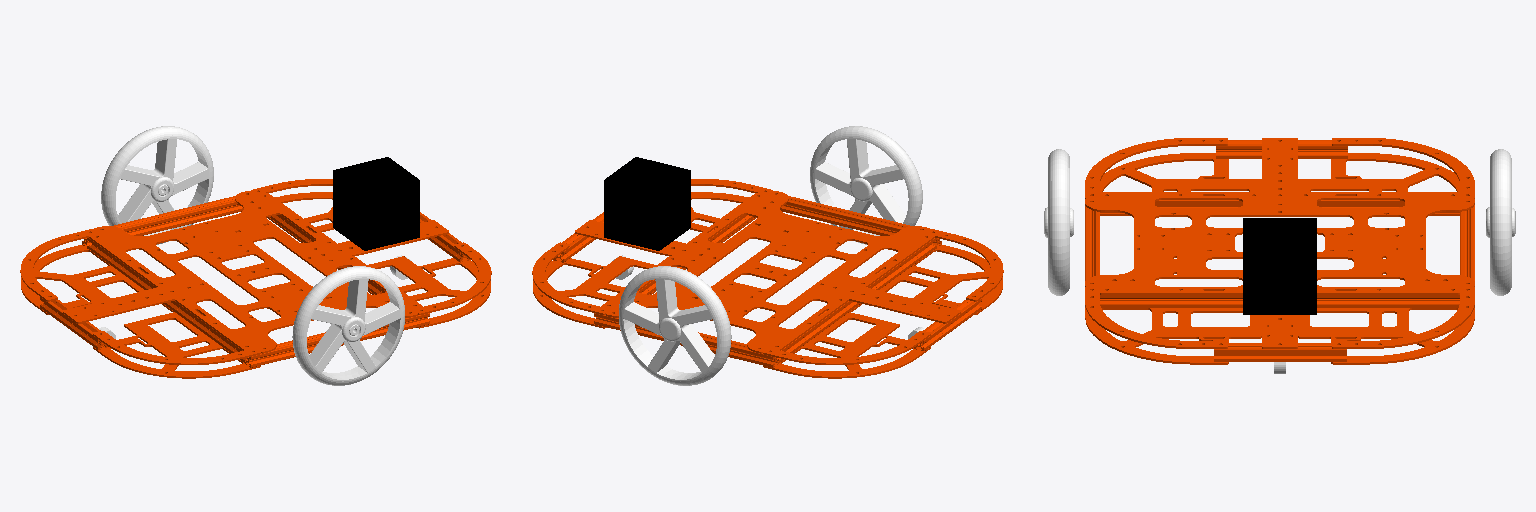
URDF robot description (cube_robot):
?<?xml version="1.0" encoding="utf-8"?>
<robot name="cube_robot">
  <material name="Powder Coat (Red)">
    <color rgba="0.9804 0.3412 0 1" />
  </material>
  <material name="No Name">
    <color rgba="1 1 1 1" />
  </material>
  <material name="Default-Material">
    <color rgba="1 1 1 1" />
  </material>
  <material name="black">
    <color rgba="0 0 0 1" />
  </material>
  <link name="base_footprint" />
  <link name="base_link">
    <inertial>
      <origin rpy="0 0 0" xyz="0.01 0 0" />
      <mass value="2" />
      <inertia ixx="0.0199950002133846" ixy="0" ixz="0" iyy="0.0199950002133846" iyz="0" izz="0.0367499999701977" />
    </inertial>
    <visual>
      <origin rpy="0 0 0" xyz="0 0 0.05949" />
      <geometry>
        <mesh filename="package://cube_robot_meshes_description/meshes/AGV-BODY.stl" scale="0.001 0.001 0.001" />
      </geometry>
      <material name="Powder Coat (Red)" />
    </visual>
    <collision>
      <origin rpy="0 4.712389 -1.570796" xyz="0 0 0.05949" />
      <geometry>
        <box size="1 1 1" />
      </geometry>
    </collision>
    <collision>
      <origin xyz="0 0 0.05" />
      <geometry>
        <box size="0.7 0.53 0.03" />
      </geometry>
    </collision>
  </link>
  <link name="wheel_left_link">
    <inertial>
      <origin rpy="0 0 0" xyz="0 0 0" />
      <mass value="0.0099999998" />
      <inertia ixx="0.00100000004749745" ixy="0" ixz="0" iyy="0.00100000004749745" iyz="0" izz="0.00100000004749745" />
    </inertial>
    <visual>
      <origin rpy="0 1.57 0" xyz="0 0 0.015" />
      <geometry>
        <mesh filename="package://cube_robot_meshes_description/meshes/AGV-WHEEL.stl" scale="1 1 1" />
      </geometry>
      <material name="No Name" />
    </visual>
    <collision>
      <geometry>
        <cylinder length="0.03" radius="0.1" />
      </geometry>
    </collision>
  </link>
  <link name="wheel_right_link">
    <inertial>
      <origin rpy="0 0 0" xyz="0 0 0" />
      <mass value="0.0099999998" />
      <inertia ixx="0.00100000004749745" ixy="0" ixz="0" iyy="0.00100000004749745" iyz="0" izz="0.00100000004749745" />
    </inertial>
    <visual>
      <origin rpy="0 1.57 0" xyz="0 0 0.015" />
      <geometry>
        <mesh filename="package://cube_robot_meshes_description/meshes/AGV-WHEEL.stl" scale="1 1 1" />
      </geometry>
      <material name="No Name" />
    </visual>
    <collision>
      <geometry>
        <cylinder length="0.03" radius="0.1" />
      </geometry>
    </collision>
  </link>
  <link name="caster_front_link">
    <inertial>
      <origin rpy="0 0 0" xyz="0 0 0" />
      <mass value="0.0099999998" />
      <inertia ixx="0.00100000004749745" ixy="0" ixz="0" iyy="0.00100000004749745" iyz="0" izz="0.00100000004749745" />
    </inertial>
    <visual>
      <geometry>
        <cylinder length="0.0176" radius="0.017" />
      </geometry>
      <material name="Default-Material" />
    </visual>
    <collision>
      <geometry>
        <cylinder length="0.0176" radius="0.017" />
      </geometry>
    </collision>
  </link>
  <link name="caster_back_link">
    <inertial>
      <origin rpy="0 0 0" xyz="0 0 0" />
      <mass value="0.0099999998" />
      <inertia ixx="0.00100000004749745" ixy="0" ixz="0" iyy="0.00100000004749745" iyz="0" izz="0.00100000004749745" />
    </inertial>
    <visual>
      <geometry>
        <cylinder length="0.0176" radius="0.017" />
      </geometry>
      <material name="Default-Material" />
    </visual>
    <collision>
      <geometry>
        <cylinder length="0.0176" radius="0.017" />
      </geometry>
    </collision>
  </link>
  <link name="hat">
    <inertial>
      <origin rpy="0 0 0" xyz="0 0 0" />
      <mass value="0.001" />
      <inertia ixx="1" ixy="0" ixz="0" iyy="1" iyz="0" izz="1" />
    </inertial>
    <visual>
      <origin xyz="0 0 -0.012" />
      <geometry>
        <box size="0.1 0.1 0.1" />
      </geometry>
      <material name="black" />
    </visual>
  </link>
  <link name="lidar">
    <inertial>
      <origin rpy="0 0 0" xyz="0 0 0" />
      <mass value="1" />
      <inertia ixx="1" ixy="0" ixz="0" iyy="1" iyz="0" izz="1" />
    </inertial>
  </link>
  <joint name="base_footprint_base_link_joint" type="fixed">
    <origin xyz="0 0 0.0102" />
    <parent link="base_footprint" />
    <child link="base_link" />
  </joint>
  <joint name="base_link_wheel_left_link_joint" type="continuous">
    <origin rpy="-1.570796 0 0" xyz="0 0.3 0.09" />
    <parent link="base_link" />
    <child link="wheel_left_link" />
    <axis xyz="0 0 1" />
  </joint>
  <joint name="base_link_wheel_right_link_joint" type="continuous">
    <origin rpy="-1.570796 0 0" xyz="0 -0.3 0.09" />
    <parent link="base_link" />
    <child link="wheel_right_link" />
    <axis xyz="0 0 1" />
  </joint>
  <joint name="base_link_caster_front_link_joint" type="fixed">
    <origin rpy="-1.570796 0 0" xyz="0.27 0 0.007" />
    <parent link="base_link" />
    <child link="caster_front_link" />
  </joint>
  <joint name="base_link_caster_back_link_joint" type="fixed">
    <origin rpy="-1.570796 0 0" xyz="-0.27 0 0.009" />
    <parent link="base_link" />
    <child link="caster_back_link" />
  </joint>
  <joint name="base_link_hat_joint" type="fixed">
    <origin xyz="0.223 0 0.14" />
    <parent link="base_link" />
    <child link="hat" />
  </joint>
  <joint name="base_link_lidar_joint" type="fixed">
    <origin xyz="0.217 0 0.225" />
    <parent link="base_link" />
    <child link="lidar" />
  </joint>
  <gazebo reference="wheel_left_link">
  <mu1>1.0</mu1>
  <mu2>1.0</mu2>
  <kp>1000000.0</kp>
  <kd>100.0</kd>
  <minDepth>0.001</minDepth>
  <maxVel>1.0</maxVel>
</gazebo>
<gazebo reference="wheel_right_link">
  <mu1>1.0</mu1>
  <mu2>1.0</mu2>
  <kp>1000000.0</kp>
  <kd>100.0</kd>
  <minDepth>0.001</minDepth>
  <maxVel>1.0</maxVel>
</gazebo>
<gazebo reference="caster_front_link">
  <mu1>0.0</mu1>
  <mu2>0.0</mu2>
  <kp>1000000.0</kp>
  <kd>100.0</kd>
  <minDepth>0.001</minDepth>
  <maxVel>1.0</maxVel>
</gazebo>
<gazebo reference="caster_back_link">
  <mu1>0.0</mu1>
  <mu2>0.0</mu2>
  <kp>1000000.0</kp>
  <kd>100.0</kd>
  <minDepth>0.001</minDepth>
  <maxVel>1.0</maxVel>
</gazebo>
<gazebo reference="base_link">
  <mu1>0.3</mu1>
  <mu2>0.3</mu2>
  <sensor name="bumpers" type="contact">
    <always_on>1</always_on>
    <update_rate>50.0</update_rate>
    <visualize>true</visualize>
    <contact>
      <collision>base_footprint_fixed_joint_lump__base_collision</collision>
    </contact>
  </sensor>
</gazebo>
<gazebo reference="cliff_sensor_left_link">
  <sensor name="cliff_sensor_left" type="ray">
    <always_on>true</always_on>
    <update_rate>50</update_rate>
    <visualize>true</visualize>
    <ray>
      <scan>
        <horizontal>
          <samples>50</samples>
          <resolution>1.0</resolution>
          <min_angle>-0.0436</min_angle>
          <!-- -2.5 degree -->
          <max_angle>0.0436</max_angle>
          <!-- 2.5 degree -->
        </horizontal>
        <!--            Can't use vertical rays until this bug is resolved: -->
        <!--            https://bitbucket.org/osrf/gazebo/issue/509/vertical-sensor-doesnt-works -->
        <!-- \t          <vertical> -->
        <!-- \t            <samples>50</samples> -->
        <!-- \t            <resolution>1.0</resolution> -->
        <!-- \t            <min_angle>-0.0436</min_angle>  -2.5 degree -->
        <!-- \t            <max_angle>0.0436</max_angle> 2.5 degree -->
        <!-- \t          </vertical> -->
      </scan>
      <range>
        <min>0.01</min>
        <max>0.15</max>
        <resolution>1.0</resolution>
      </range>
    </ray>
  </sensor>
</gazebo>
<gazebo reference="cliff_sensor_right_link">
  <sensor name="cliff_sensor_right" type="ray">
    <always_on>true</always_on>
    <update_rate>50</update_rate>
    <visualize>true</visualize>
    <ray>
      <scan>
        <horizontal>
          <samples>50</samples>
          <resolution>1.0</resolution>
          <min_angle>-0.0436</min_angle>
          <!-- -2.5 degree -->
          <max_angle>0.0436</max_angle>
          <!-- 2.5 degree -->
        </horizontal>
        <!--            Can't use vertical rays until this bug is resolved: -->
        <!--            https://bitbucket.org/osrf/gazebo/issue/509/vertical-sensor-doesnt-works -->
        <!-- \t          <vertical> -->
        <!-- \t            <samples>50</samples> -->
        <!-- \t            <resolution>1.0</resolution> -->
        <!-- \t            <min_angle>-0.0436</min_angle>  -2.5 degree -->
        <!-- \t            <max_angle>0.0436</max_angle> 2.5 degree -->
        <!-- \t          </vertical> -->
      </scan>
      <range>
        <min>0.01</min>
        <max>0.15</max>
        <resolution>1.0</resolution>
      </range>
    </ray>
  </sensor>
</gazebo>
<gazebo reference="cliff_sensor_front_link">
  <sensor name="cliff_sensor_front" type="ray">
    <always_on>true</always_on>
    <update_rate>50</update_rate>
    <visualize>true</visualize>
    <ray>
      <scan>
        <horizontal>
          <samples>50</samples>
          <resolution>1.0</resolution>
          <min_angle>-0.0436</min_angle>
          <!-- -2.5 degree -->
          <max_angle>0.0436</max_angle>
          <!-- 2.5 degree -->
        </horizontal>
        <!-- \t          Can't use vertical rays until this bug is resolved: -->
        <!--            https://bitbucket.org/osrf/gazebo/issue/509/vertical-sensor-doesnt-works -->
        <!-- \t          <vertical> -->
        <!-- \t            <samples>50</samples> -->
        <!-- \t            <resolution>1.0</resolution> -->
        <!-- \t            <min_angle>-0.0436</min_angle>  -2.5 degree -->
        <!-- \t            <max_angle>0.0436</max_angle> 2.5 degree -->
        <!-- \t          </vertical> -->
      </scan>
      <range>
        <min>0.01</min>
        <max>0.15</max>
        <resolution>1.0</resolution>
      </range>
    </ray>
  </sensor>
</gazebo>
<gazebo reference="gyro_link">
  <sensor name="imu" type="imu">
    <always_on>true</always_on>
    <update_rate>50</update_rate>
    <visualize>false</visualize>
    <imu>
      <noise>
        <type>gaussian</type>
        <rate>
          <mean>0.0</mean>
          <stddev>1.96e-06</stddev>
          <!-- 0.25 x 0.25 (deg/s) -->
          <bias_mean>0.0</bias_mean>
          <bias_stddev>0.0</bias_stddev>
        </rate>
        <accel>
          <!-- not used in the plugin and real robot, hence using tutorial values -->
          <mean>0.0</mean>
          <stddev>1.7e-2</stddev>
          <bias_mean>0.1</bias_mean>
          <bias_stddev>0.001</bias_stddev>
        </accel>
      </noise>
    </imu>
  </sensor>
</gazebo>
<gazebo>
  <plugin filename="libgazebo_ros_kobuki.so" name="kobuki_controller">
    <publish_tf>1</publish_tf>
    <left_wheel_joint_name>wheel_left_joint</left_wheel_joint_name>
    <right_wheel_joint_name>wheel_right_joint</right_wheel_joint_name>
    <wheel_separation>.230</wheel_separation>
    <wheel_diameter>0.070</wheel_diameter>
    <torque>1.0</torque>
    <velocity_command_timeout>0.6</velocity_command_timeout>
    <cliff_sensor_left_name>cliff_sensor_left</cliff_sensor_left_name>
    <cliff_sensor_center_name>cliff_sensor_front</cliff_sensor_center_name>
    <cliff_sensor_right_name>cliff_sensor_right</cliff_sensor_right_name>
    <cliff_detection_threshold>0.04</cliff_detection_threshold>
    <bumper_name>bumpers</bumper_name>
    <imu_name>imu</imu_name>
  </plugin>
</gazebo>
<gazebo reference="camera_link">
  <sensor name="camera" type="depth">
    <always_on>true</always_on>
    <update_rate>20.0</update_rate>
    <camera>
      <horizontal_fov>1.0471975512</horizontal_fov>
      <image>
        <format>B8G8R8</format>
        <width>640</width>
        <height>480</height>
      </image>
      <clip>
        <near>0.05</near>
        <far>8.0</far>
      </clip>
    </camera>
    <plugin filename="libgazebo_ros_openni_kinect.so" name="kinect_camera_controller">
      <cameraName>camera</cameraName>
      <alwaysOn>true</alwaysOn>
      <updateRate>10</updateRate>
      <imageTopicName>rgb/image_raw</imageTopicName>
      <depthImageTopicName>depth/image_raw</depthImageTopicName>
      <pointCloudTopicName>depth/points</pointCloudTopicName>
      <cameraInfoTopicName>rgb/camera_info</cameraInfoTopicName>
      <depthImageCameraInfoTopicName>depth/camera_info</depthImageCameraInfoTopicName>
      <frameName>camera_depth_optical_frame</frameName>
      <baseline>0.1</baseline>
      <distortion_k1>0.0</distortion_k1>
      <distortion_k2>0.0</distortion_k2>
      <distortion_k3>0.0</distortion_k3>
      <distortion_t1>0.0</distortion_t1>
      <distortion_t2>0.0</distortion_t2>
      <pointCloudCutoff>0.4</pointCloudCutoff>
    </plugin>
  </sensor>
</gazebo>
</robot>

--- What the picture shows (computed from the rendered views, not written in the file) ---
3 views of the same robot in one strip: view 1: azimuth 30°, elevation 25°; view 2: azimuth 150°, elevation 25°; view 3: azimuth 270°, elevation 25° (orthographic).
Model cube_robot with 8 links and 7 joints (2 continuous, 5 fixed), rooted at base_footprint, posed all joints at 0.
Links seen in each view (by area): view 1: base_link, wheel_right_link, hat, wheel_left_link; view 2: base_link, wheel_left_link, hat, wheel_right_link; view 3: base_link, hat, wheel_left_link, wheel_right_link.
Link boxes in pixels (bbox=[...]): base_link: bbox=[20, 179, 491, 378]; wheel_right_link: bbox=[292, 266, 404, 385]; hat: bbox=[333, 157, 419, 250]; wheel_left_link: bbox=[101, 126, 213, 244]; base_link: bbox=[532, 179, 1003, 378]; wheel_left_link: bbox=[619, 266, 731, 385]; hat: bbox=[604, 157, 690, 250]; wheel_right_link: bbox=[810, 126, 922, 244]; base_link: bbox=[1085, 138, 1474, 364]; hat: bbox=[1243, 218, 1316, 314]; wheel_left_link: bbox=[1486, 149, 1515, 295]; wheel_right_link: bbox=[1044, 149, 1073, 295].
Bounding box of the posed robot: 0.674 × 0.64 × 0.2 m (x, y, z).
Meshes: 2 distinct files referenced, 3 mesh visuals loaded (2 binary STL).
